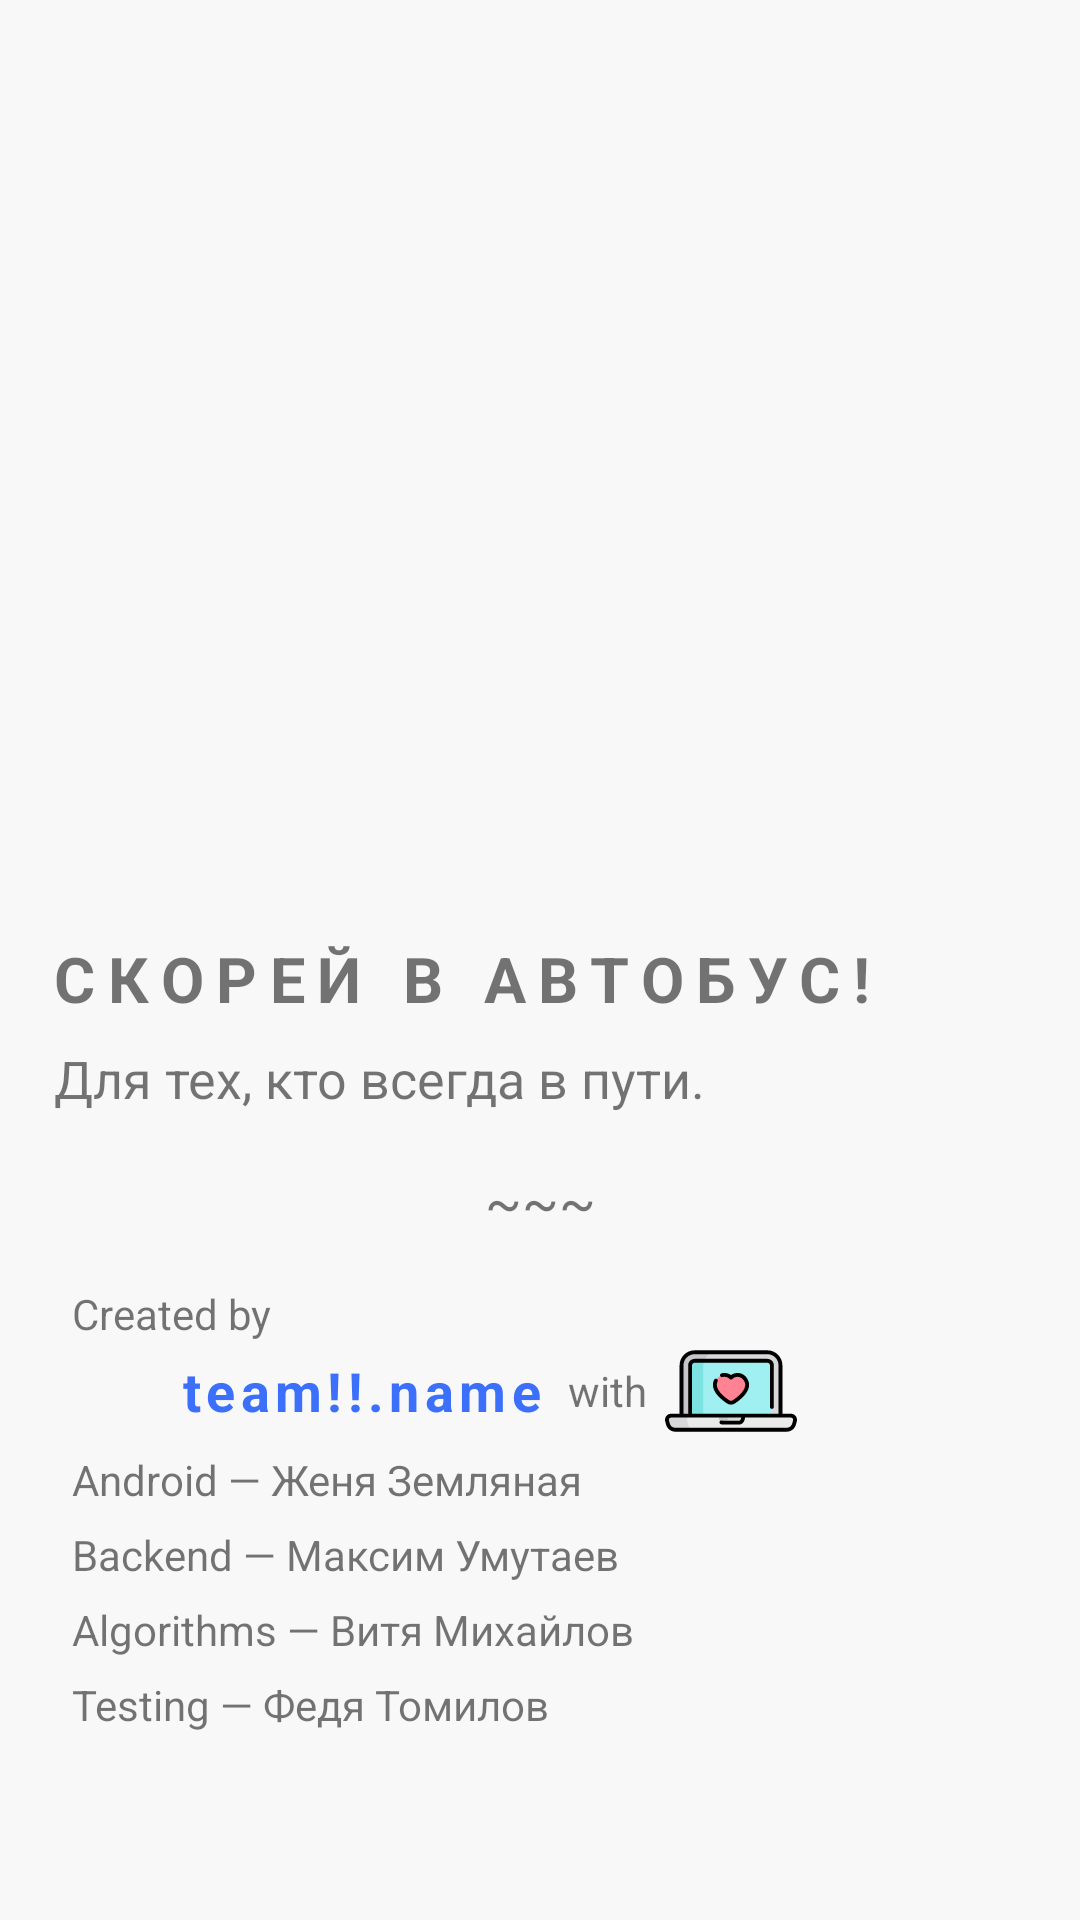

Icon click points for this 1080*1920 phone screenshot, format point (x, y):
computer line: point (731, 1391)
